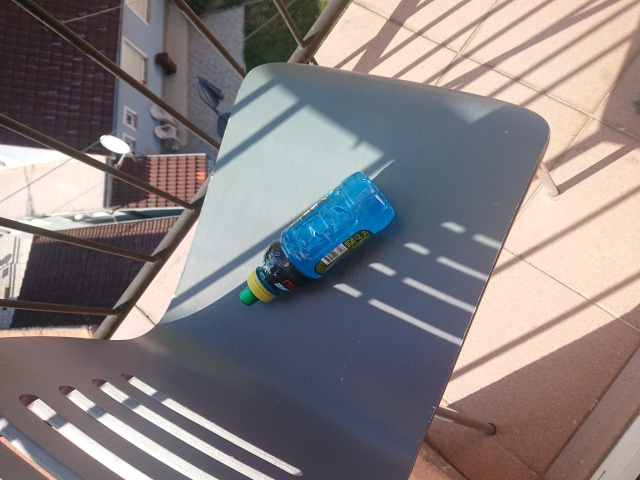Vindi Iso Sport Forest Strawberries 500mL: (235, 169, 397, 307)
